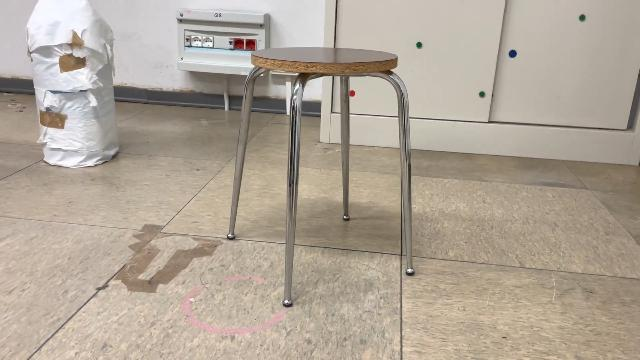Stool: (220, 42, 422, 314)
